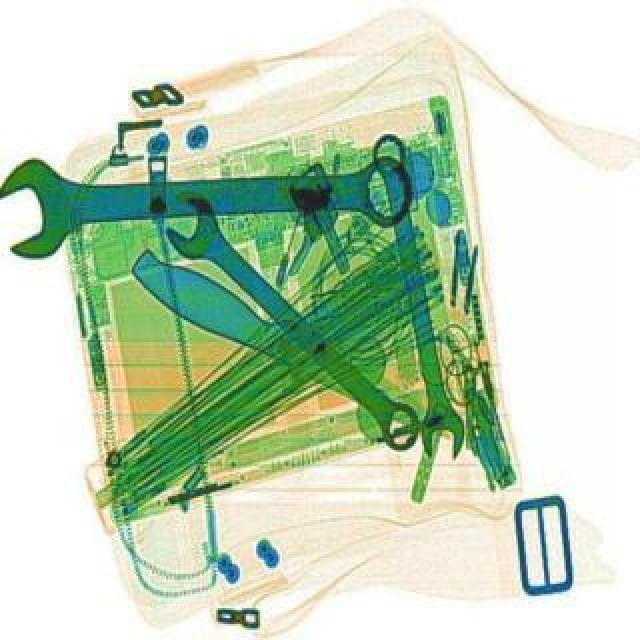knife: (118, 232, 450, 446)
scissors: (150, 186, 438, 458), (0, 126, 414, 258), (366, 128, 466, 460)
